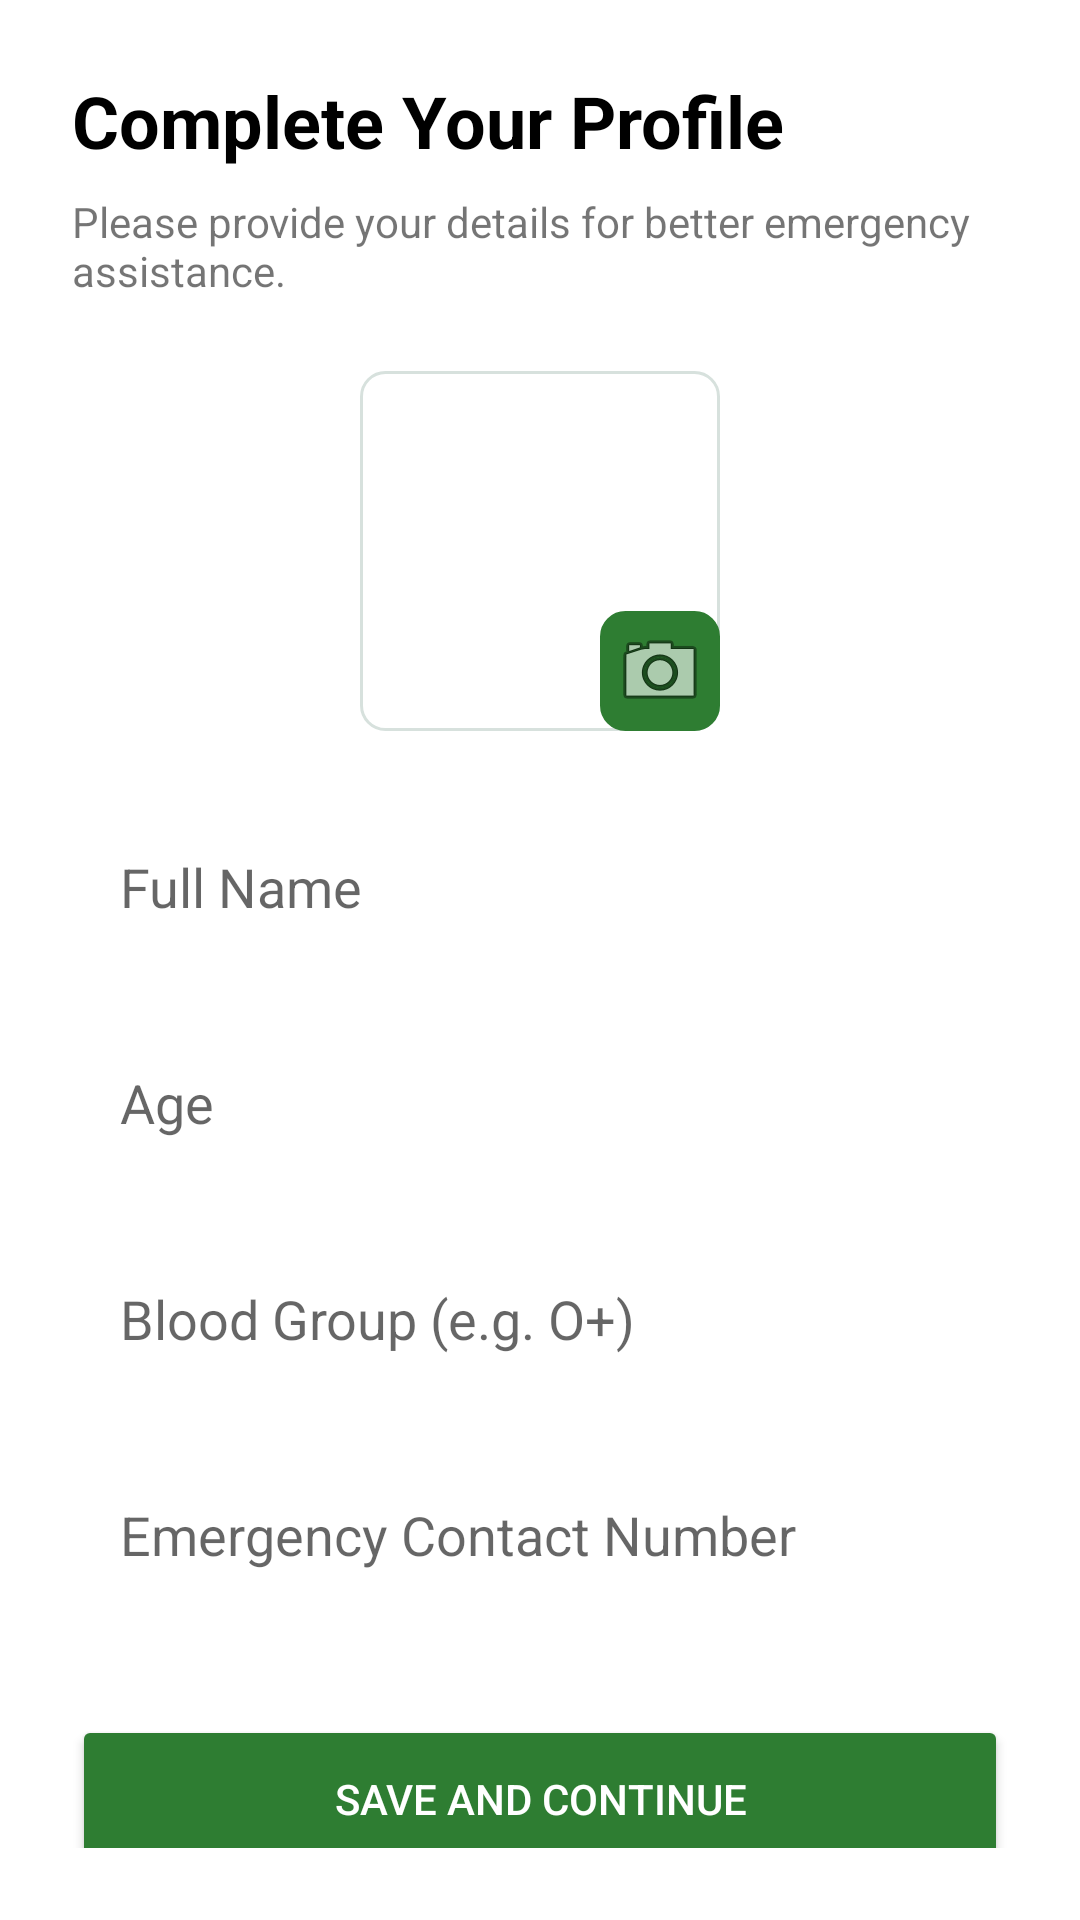

Named icons in this screenshot (1080x1920) and their centers, point (x, y):
Pick Photo: point (660, 671)
